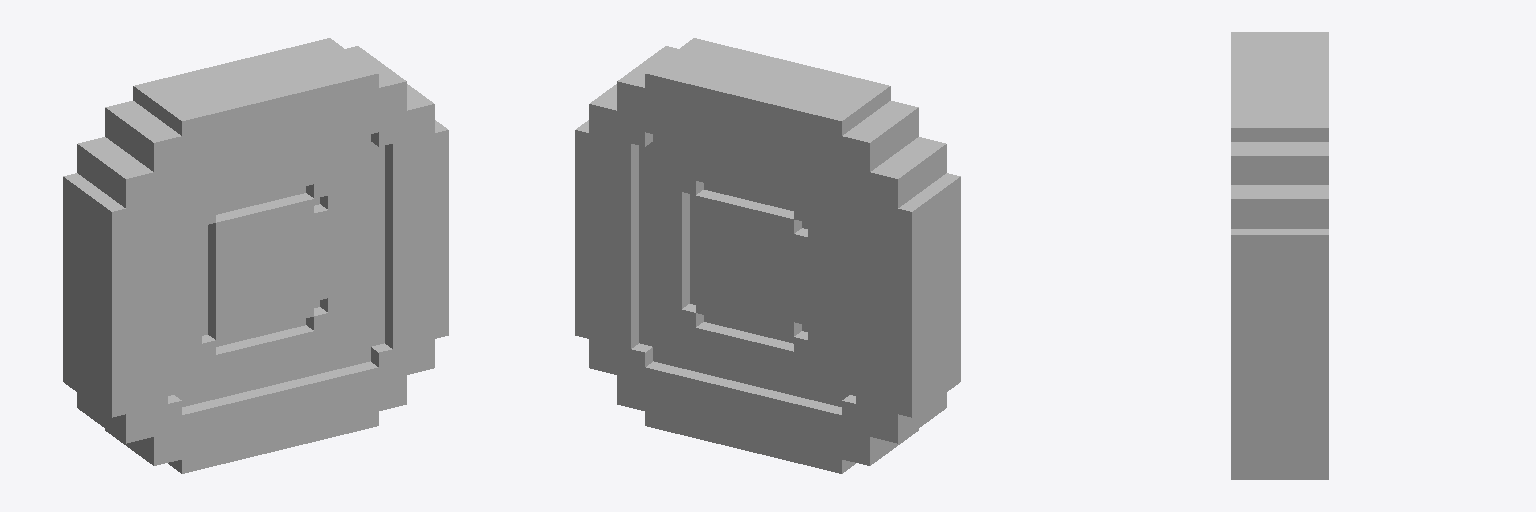
The model's file is coin.obj.
3 views of the same model, side by side, from view 1: azimuth 30°, elevation 25°; view 2: azimuth 150°, elevation 25°; view 3: azimuth 270°, elevation 25° (orthographic).
Visible parts, largest first — view 1: coin; view 2: coin; view 3: coin.
Boxes of the visible parts, x1,y1,x2,y2 form: coin: [63, 38, 448, 473]; coin: [575, 38, 960, 473]; coin: [1231, 32, 1328, 479].
Bounding box in the file's own units: 24 × 24 × 6.